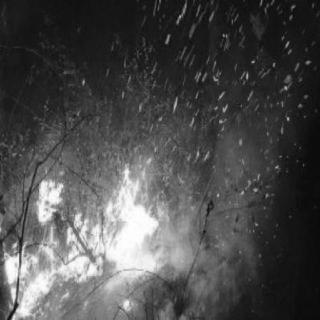Fire: (2, 102, 200, 316)
